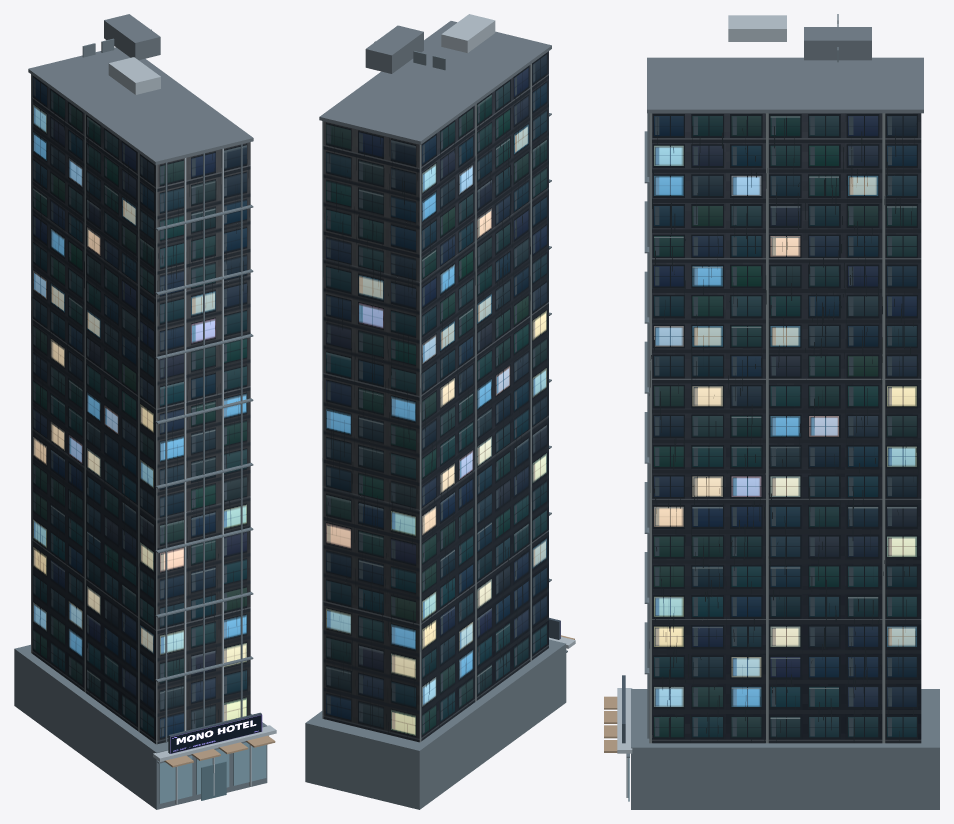
The model's file is building_13.glb.
3 renders of one model, left to right at view 1: azimuth 30°, elevation 25°; view 2: azimuth 150°, elevation 25°; view 3: azimuth 270°, elevation 25°, orthographic. The views are drawn at different scales.
Visible parts, largest first — view 1: facade_sideb_3, facade_0, frame, roof, alum, glass, sign_8, wood, tint, concrete; view 2: facade_sideb_3, facade_back_1, frame, roof, alum, facade_side_2, concrete; view 3: facade_side_2, frame, roof, alum, wood.
Part boxes in pixels (box(x1,y1,x2,y2)): facade_sideb_3: box(31, 74, 155, 743); facade_0: box(156, 142, 250, 744); frame: box(14, 29, 268, 809); roof: box(28, 14, 253, 165); alum: box(108, 57, 276, 804); glass: box(159, 742, 266, 803); sign_8: box(170, 714, 262, 753); wood: box(164, 735, 275, 767); tint: box(201, 761, 226, 800); concrete: box(156, 165, 156, 743); facade_sideb_3: box(420, 51, 548, 742); facade_back_1: box(322, 121, 419, 742); frame: box(305, 41, 567, 809); roof: box(319, 21, 551, 144); alum: box(441, 14, 575, 648); facade_side_2: box(322, 121, 322, 718); concrete: box(419, 145, 419, 741); facade_side_2: box(649, 113, 921, 743); frame: box(626, 14, 939, 809); roof: box(647, 27, 923, 113); alum: box(617, 15, 786, 797); wood: box(604, 696, 617, 752).
Size of the model in its own units: 16.2 by 92.2 by 37.18.
19 materials, 9 textured.
